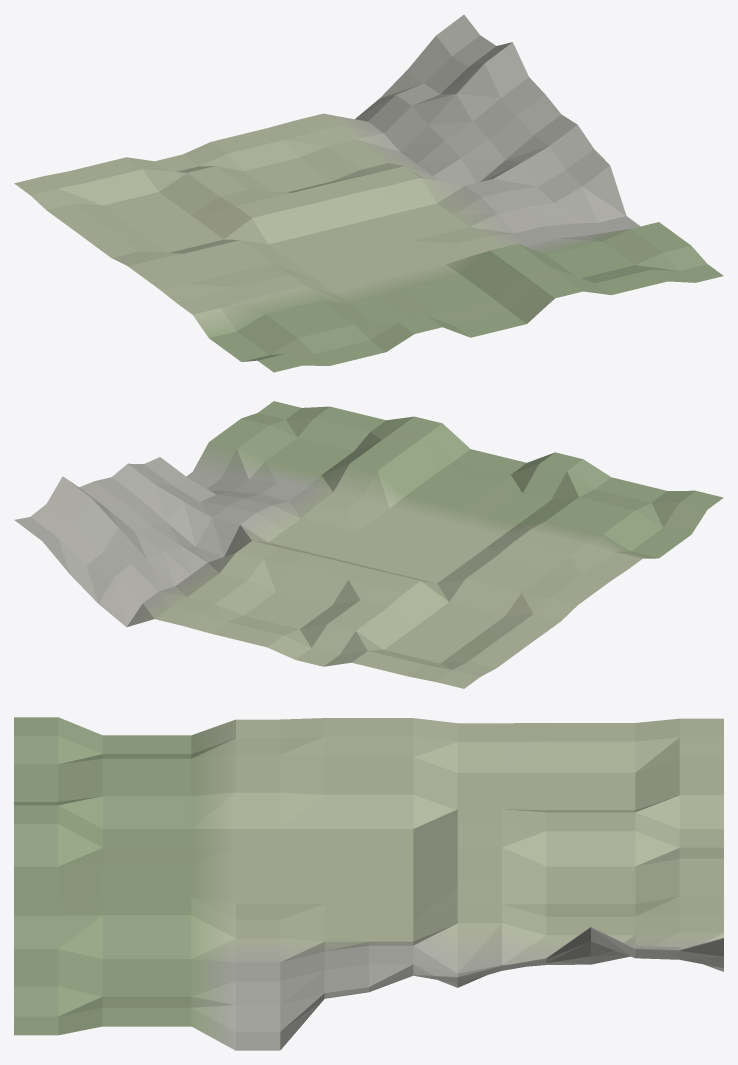
3 views of the same model, one above another, from view 1: azimuth 30°, elevation 25°; view 2: azimuth 150°, elevation 25°; view 3: azimuth 270°, elevation 25° (orthographic). The views are drawn at different scales.
Bounding box in the file's own units: 32 × 6.16 × 32.
